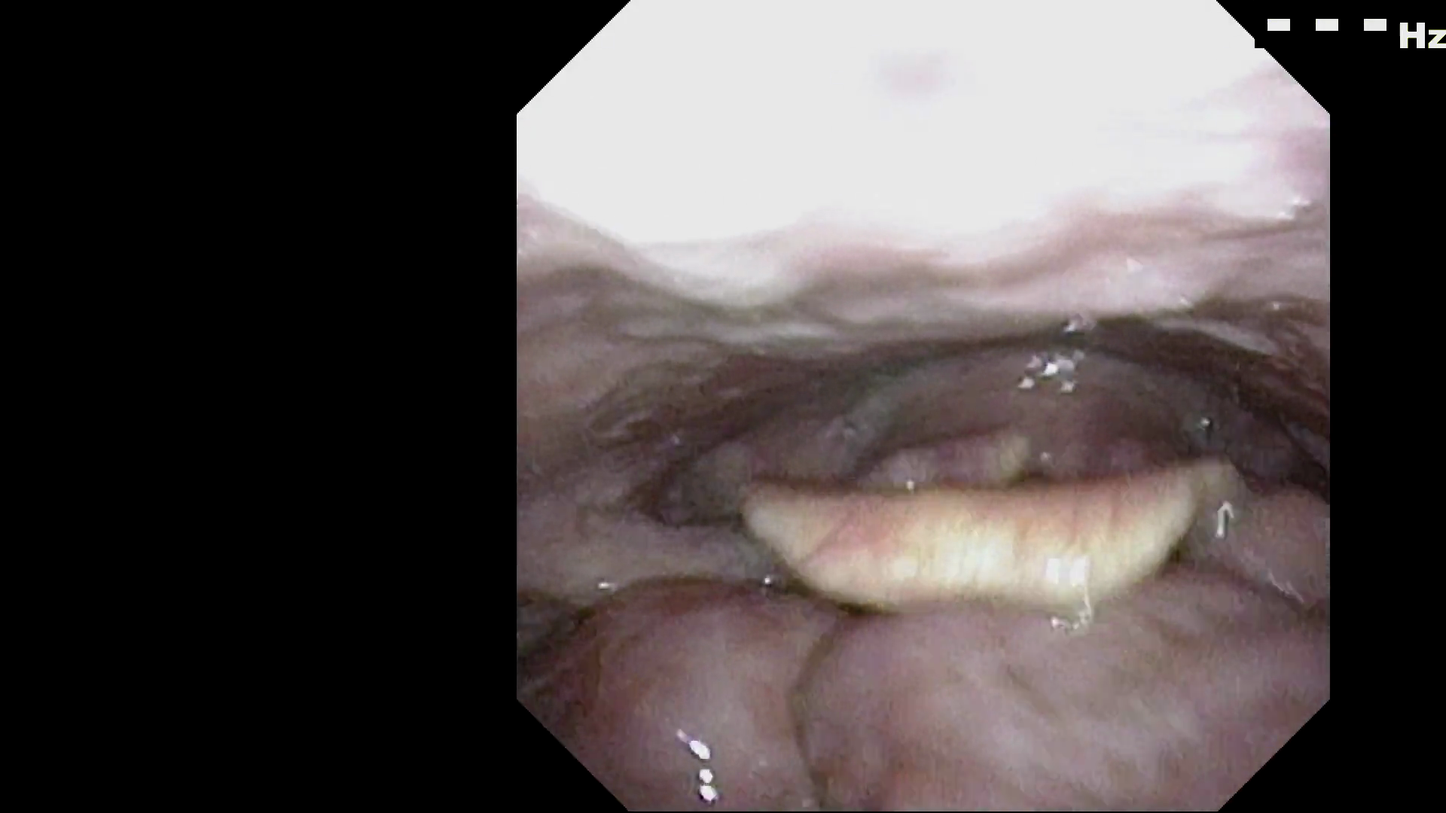epiglottis: (720, 467, 1262, 606)
